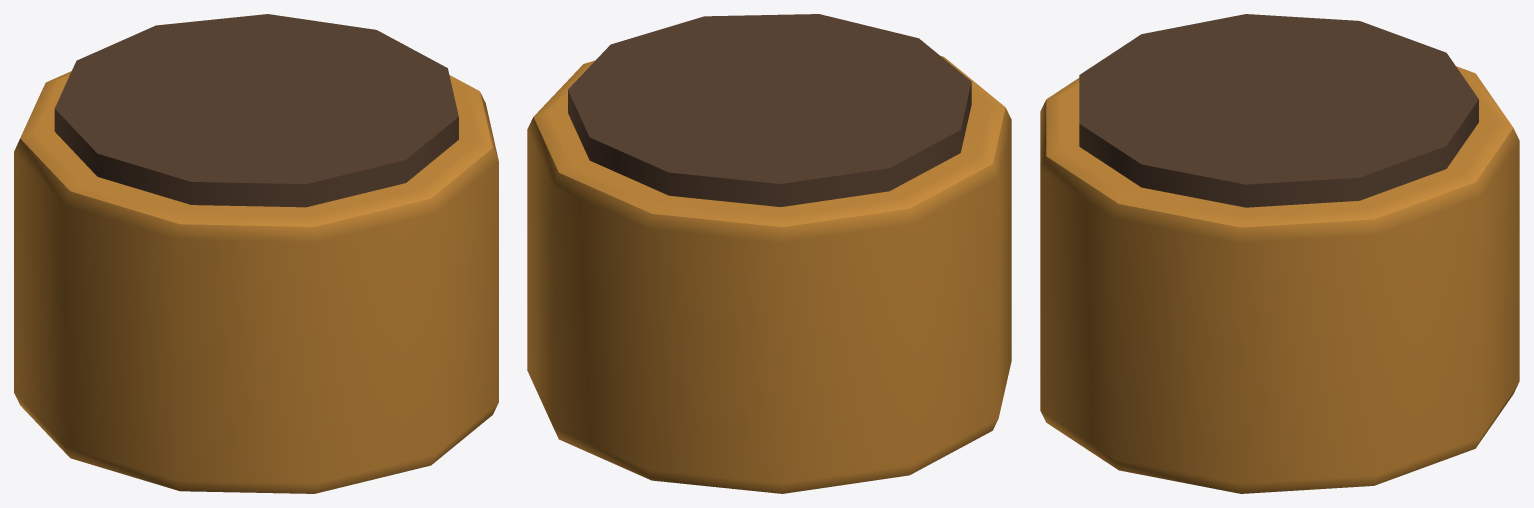
The model's file is prop_stump.glb.
The picture shows the model from 3 angles, left to right: view 1: azimuth 30°, elevation 25°; view 2: azimuth 150°, elevation 25°; view 3: azimuth 270°, elevation 25°; orthographic projection.
Parts seen in each view (by area): view 1: stump, stump_top; view 2: stump, stump_top; view 3: stump, stump_top.
Part boxes in pixels (x1,y1,x2,y2): stump: (14,71,498,493); stump_top: (54,14,458,207); stump: (527,56,1011,493); stump_top: (568,14,971,206); stump: (1040,66,1519,493); stump_top: (1079,14,1478,207).
Bounding box in the file's own units: 0.4751 × 0.325 × 0.4703.
